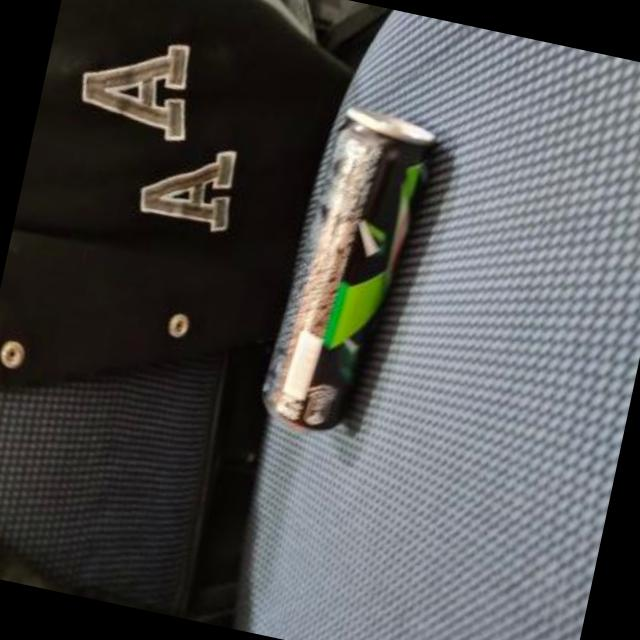metal: (262, 103, 433, 426)
